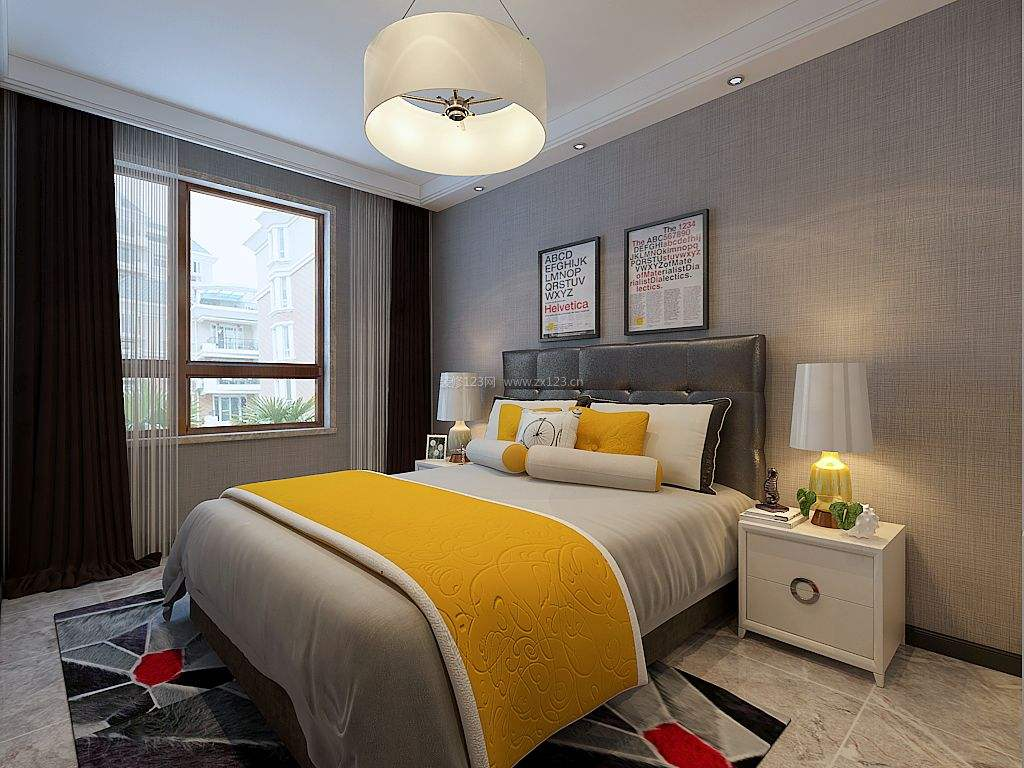床: (169, 448, 748, 743)
枕头: (475, 395, 731, 489)
灯: (359, 5, 560, 203), (787, 355, 869, 528), (435, 368, 494, 459), (726, 72, 753, 90), (572, 142, 592, 157)
